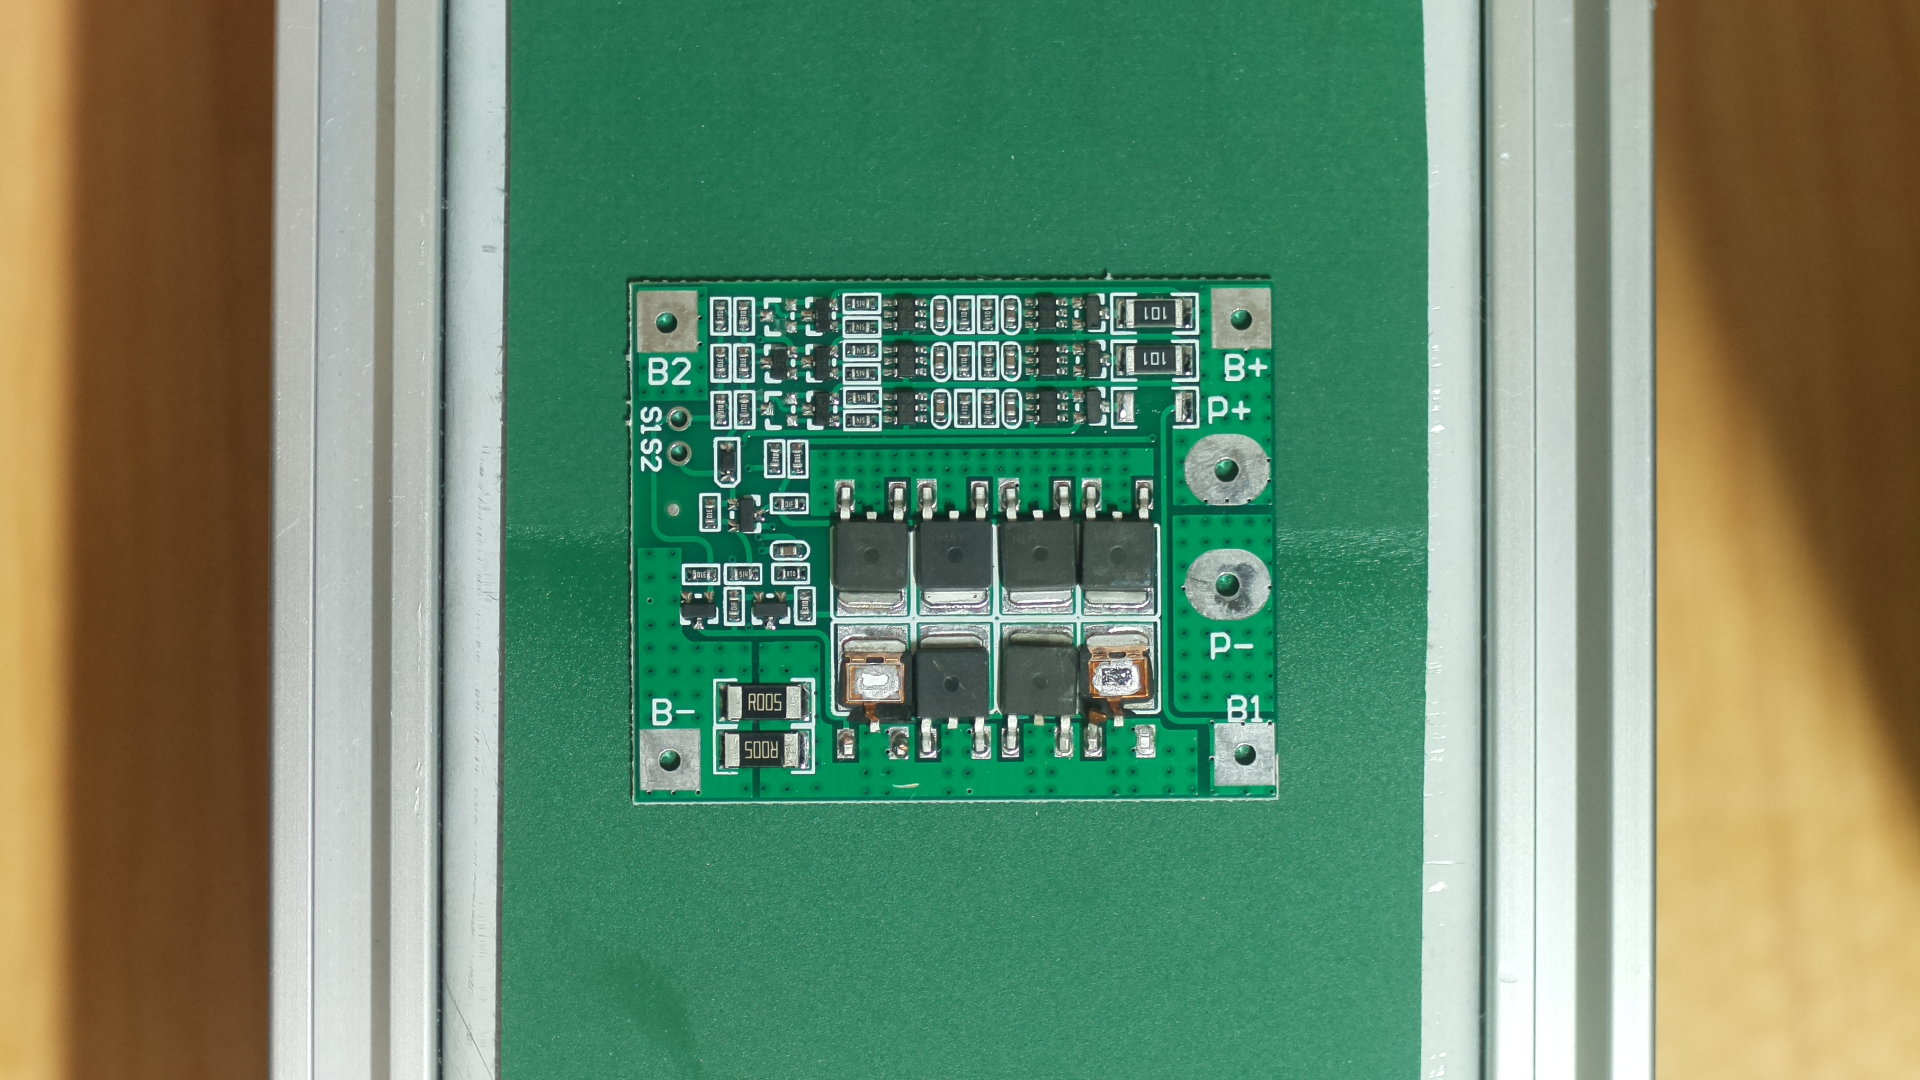C_Missing_part: (612, 270, 1298, 811)
